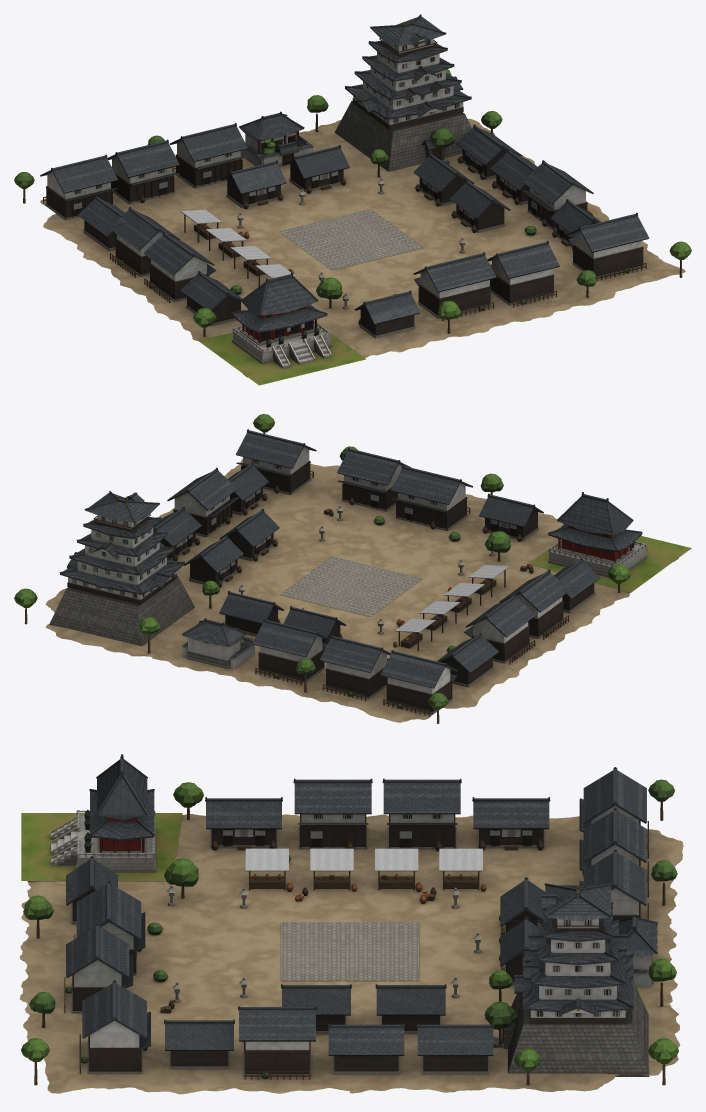
File: gunpowder-town-medium-b-japan.glb
3 renders of one model, top to bottom at view 1: azimuth 30°, elevation 25°; view 2: azimuth 150°, elevation 25°; view 3: azimuth 270°, elevation 25°, orthographic. The views are drawn at different scales.
Parts seen in each view (by area): view 1: LOD0; view 2: LOD0; view 3: LOD0.
Boxes of the visible parts, <box> form: LOD0: <box>14,14,691,385</box>; LOD0: <box>14,414,691,723</box>; LOD0: <box>20,754,683,1094</box>.
Size of what is drawn, in the model's own units: 6.03 by 1.58 by 6.09.
3 materials, 3 textured.
